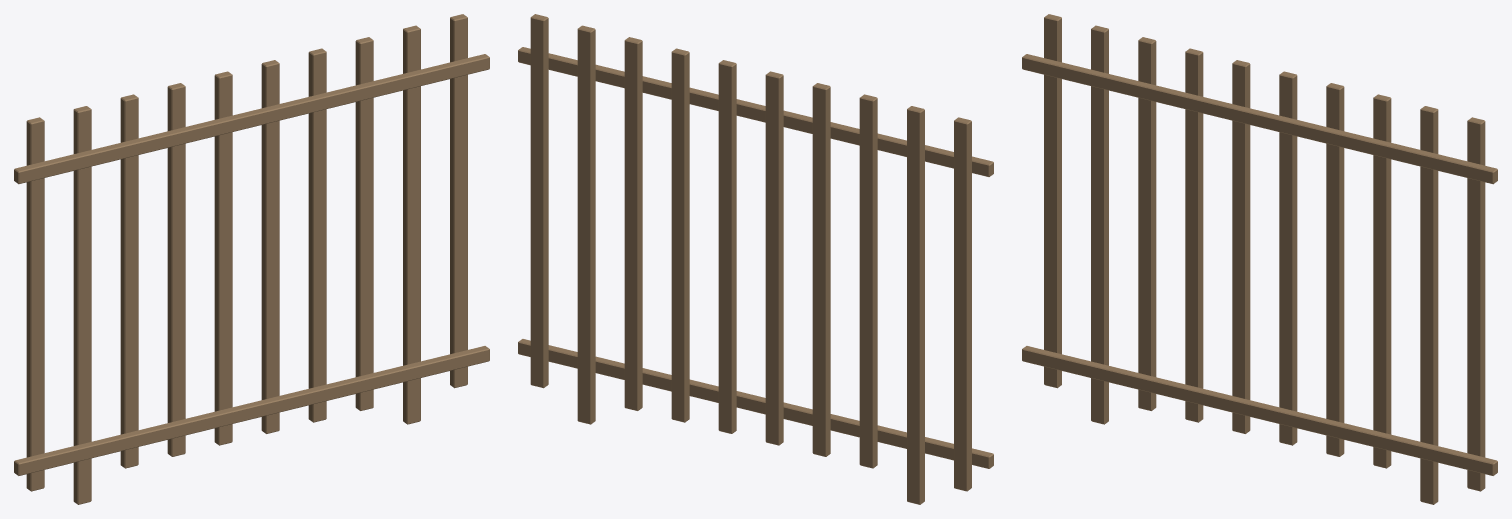
Rendered from Garden_Hedge_Long.FBX.
3 renders of one model, left to right at view 1: azimuth 30°, elevation 25°; view 2: azimuth 150°, elevation 25°; view 3: azimuth 330°, elevation 25°, orthographic.
Visible parts, largest first — view 1: Garden_Hedge_Long; view 2: Garden_Hedge_Long; view 3: Garden_Hedge_Long.
Boxes of the visible parts, x1,y1,x2,y2 form: Garden_Hedge_Long: (14, 14, 489, 504); Garden_Hedge_Long: (518, 14, 993, 504); Garden_Hedge_Long: (1022, 14, 1497, 504).
Size of the model in its own units: 78.13 by 62.2 by 2.76.
